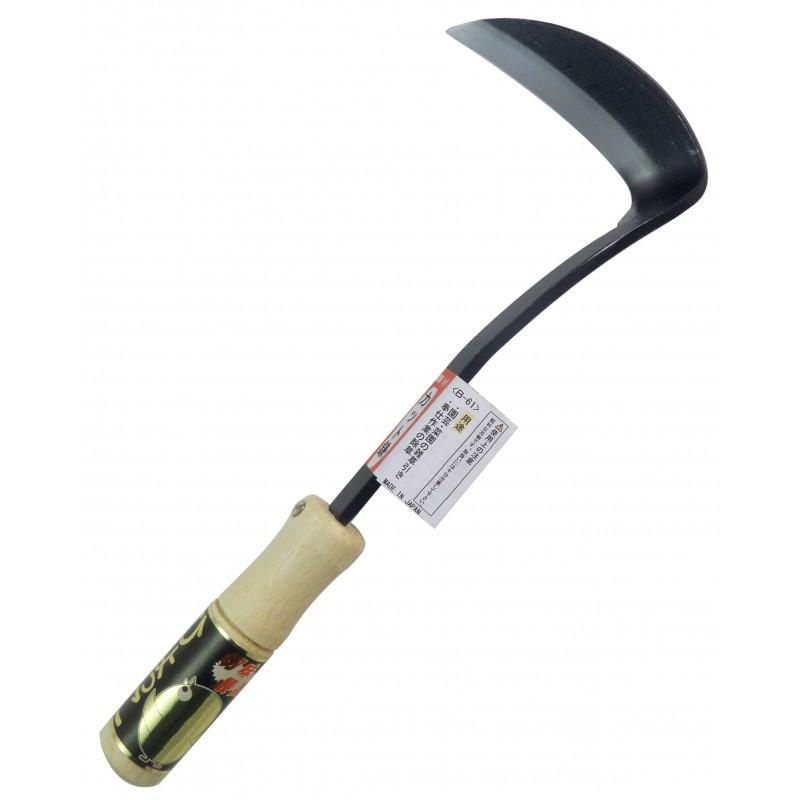foice: (89, 10, 715, 790)
